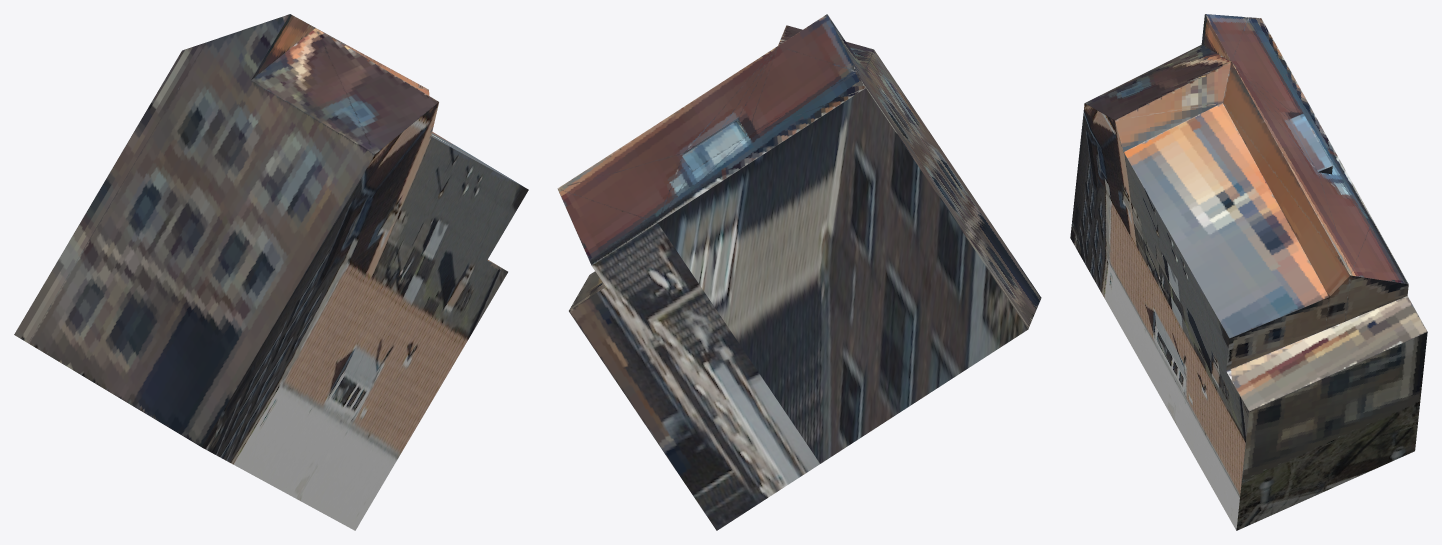
The picture shows the model from 3 angles, left to right: view 1: azimuth 30°, elevation 25°; view 2: azimuth 150°, elevation 25°; view 3: azimuth 270°, elevation 25°; orthographic projection. The views are drawn at different scales.
Visible parts, largest first — view 1: BAG_0599100000760381 (×4); view 2: BAG_0599100000760381 (×6); view 3: BAG_0599100000760381 (×6).
Boxes of the visible parts, x1,y1,x2,y2 form: BAG_0599100000760381 (×4): (14,14,528,530); BAG_0599100000760381 (×6): (558,14,1041,530); BAG_0599100000760381 (×6): (1070,14,1427,530).
Bounding box in the file's own units: 21.05 × 21.94 × 14.76.
7 materials, 7 textured.
